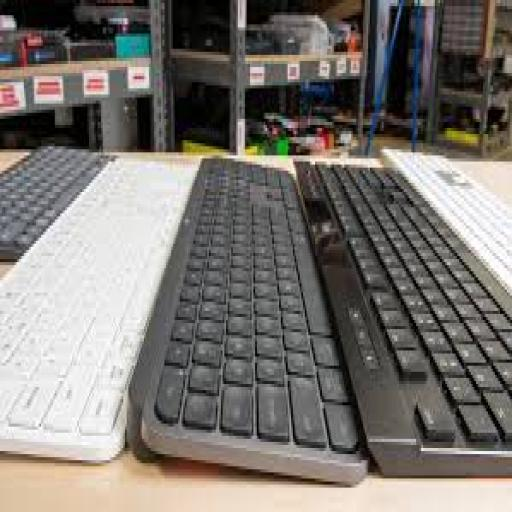keyboard: (128, 158, 366, 482), (298, 165, 510, 472), (0, 158, 195, 457)
